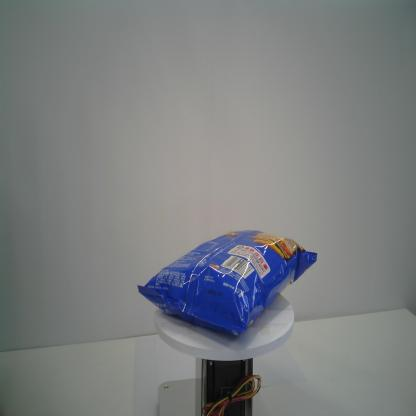Puffed Food: (136, 228, 319, 338)
